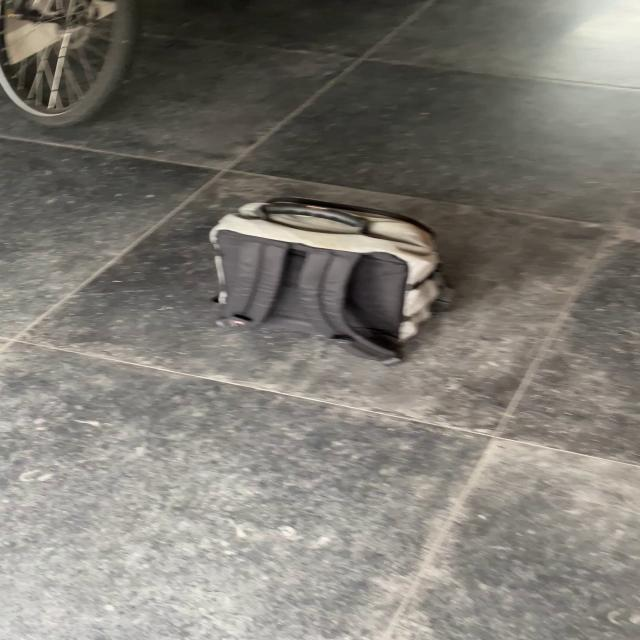backpack: (199, 190, 459, 358)
